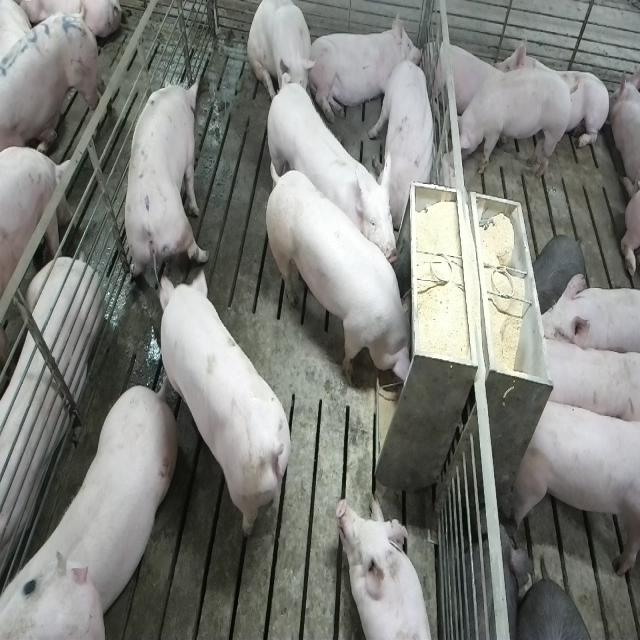Feeding: (269, 164, 422, 390)
Sitting: (248, 1, 318, 115)
Standing: (5, 376, 182, 632), (159, 273, 296, 548), (263, 77, 397, 270), (511, 391, 638, 582), (122, 73, 208, 289), (0, 0, 102, 163), (450, 71, 578, 177), (535, 330, 637, 428), (535, 274, 640, 359)
Sternal_lying: (333, 493, 436, 640), (497, 31, 608, 157), (311, 13, 423, 129), (428, 36, 502, 122)
